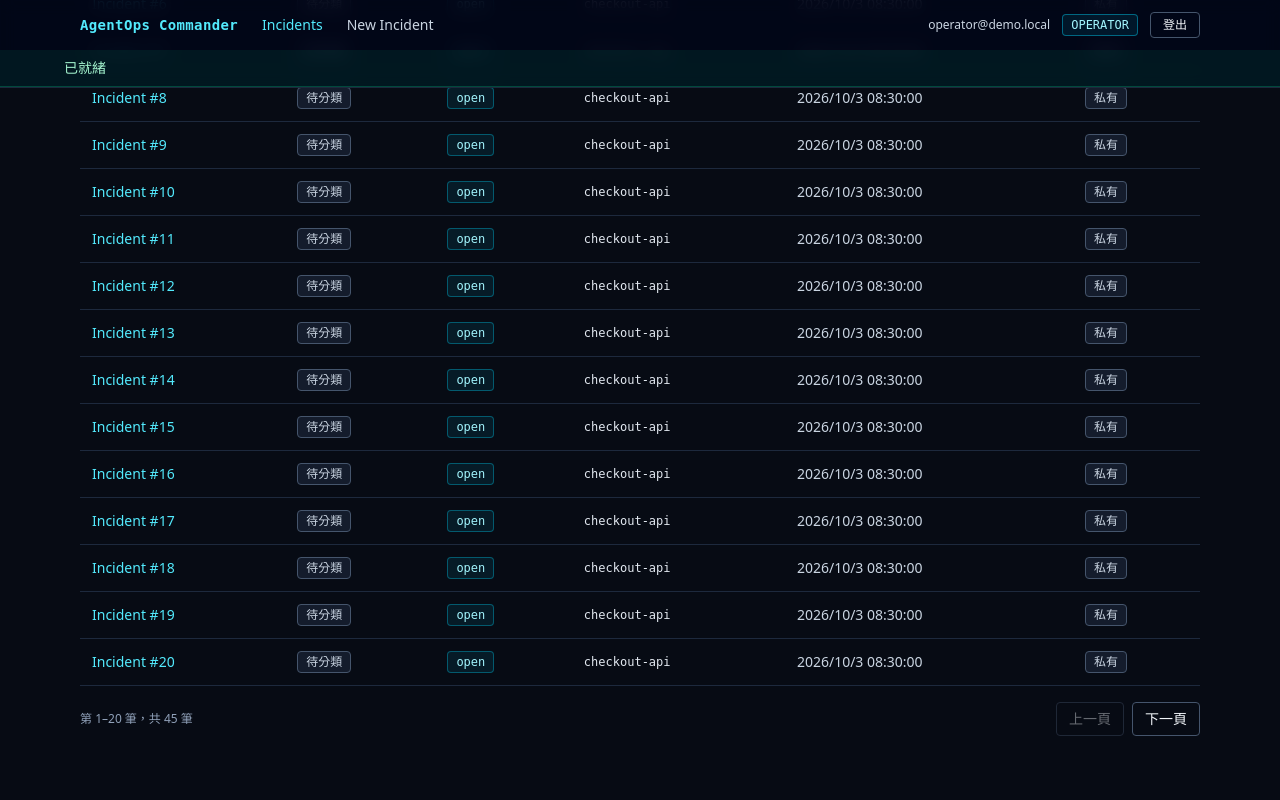
Test: /incidents › 分頁：上一頁 / 下一頁帶 offset，邊界停用
(page scrolled)
Expected: the text "第 1–20 筆，共 45 筆" is shown, [80,711,193,727]
Expected: the button "上一頁" is disabled, [1056,702,1124,736]
Click the button "下一頁". click: (1166, 719)
box: [1132,702,1200,736]
Wait 60 ms
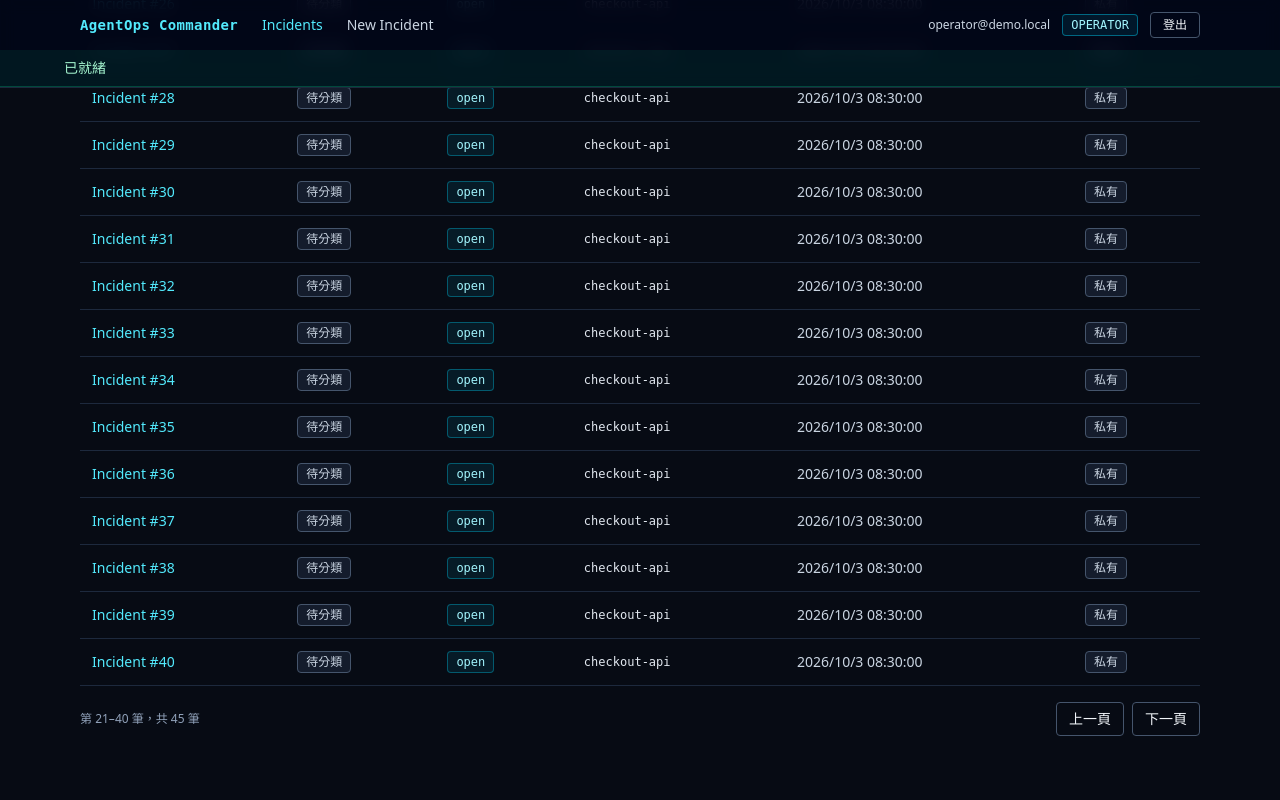
Now the text "第 21–40 筆，共 45 筆" is shown, box [80,711,200,727]
Click the button "下一頁". click: (1166, 719)
box: [1132,702,1200,736]
Wait 60 ms
(page scrolled)
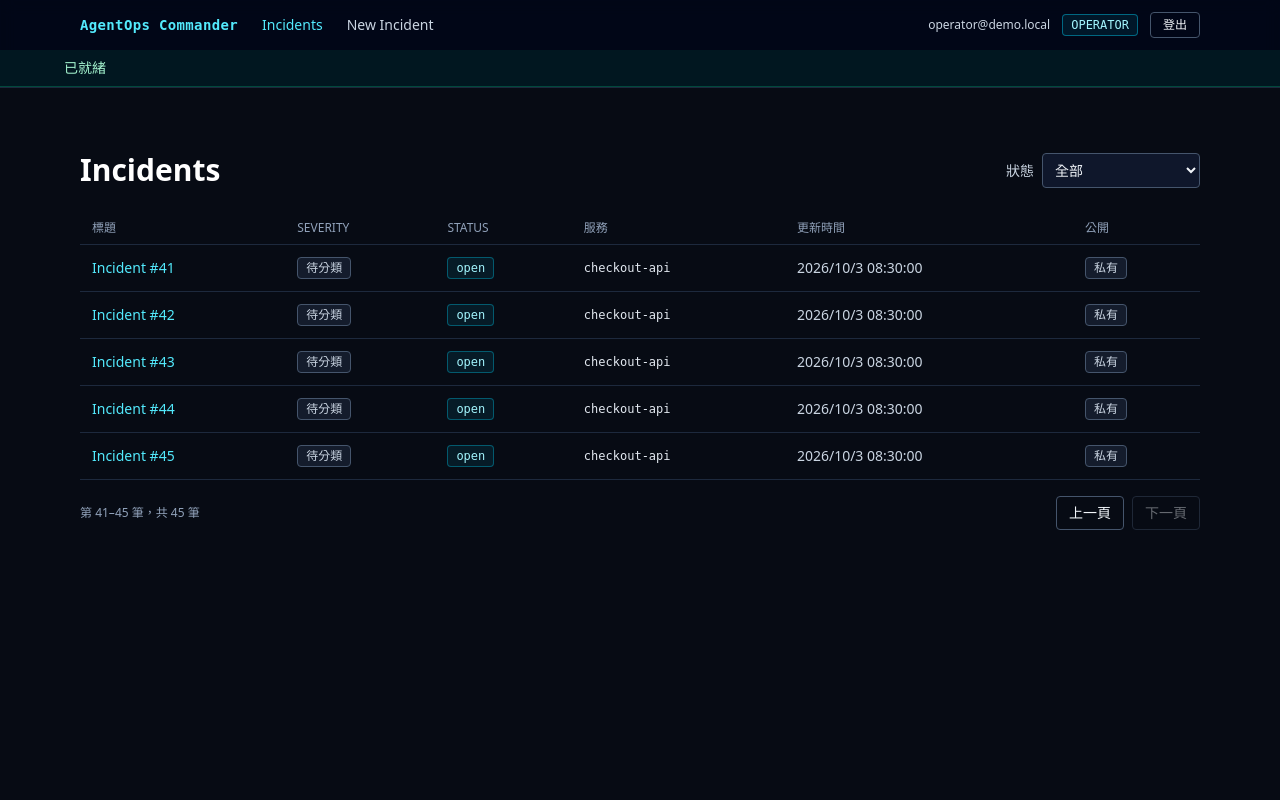
Now the text "第 41–45 筆，共 45 筆" is shown, box [80,505,200,521]
Now the button "下一頁" is disabled, box [1132,496,1200,530]
Click the button "上一頁". click: (1090, 513)
box: [1056,496,1124,530]
Wait 60 ms
(page scrolled)
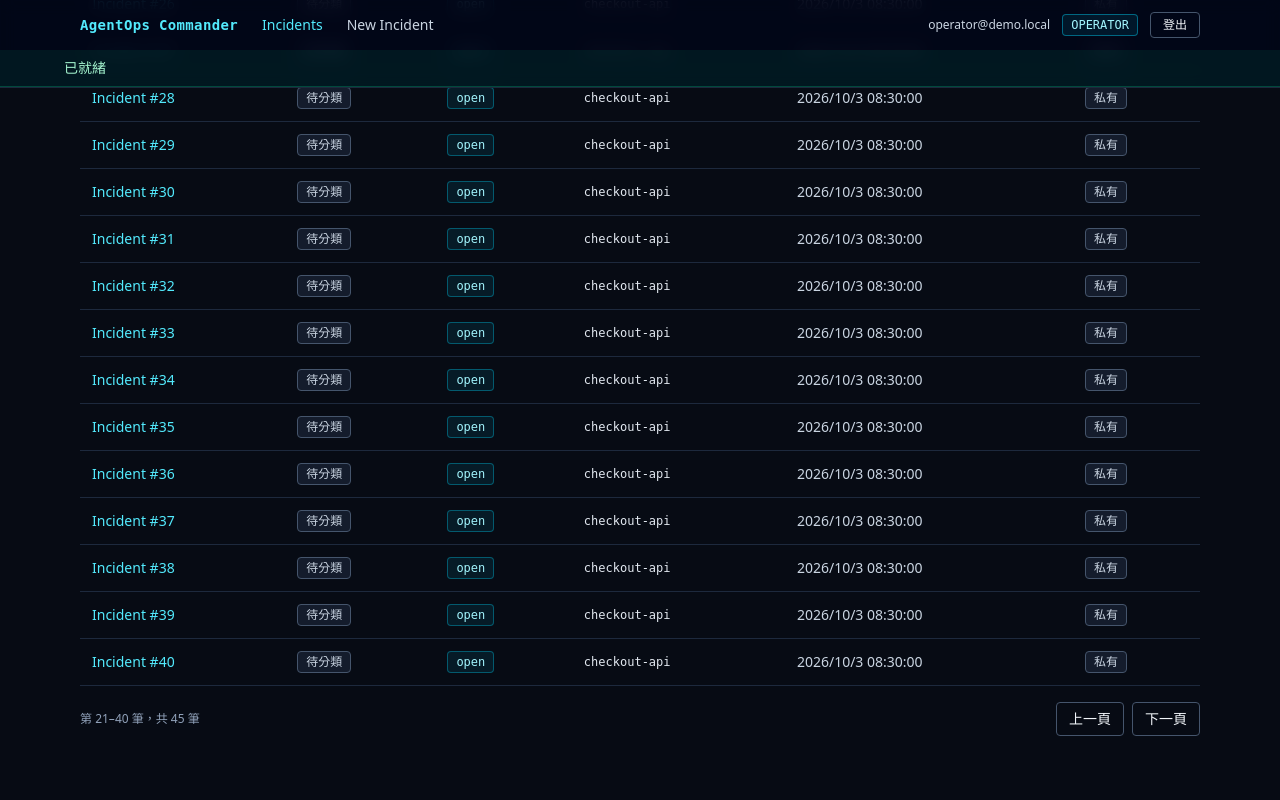
Now the text "第 21–40 筆，共 45 筆" is shown, box [80,711,200,727]
